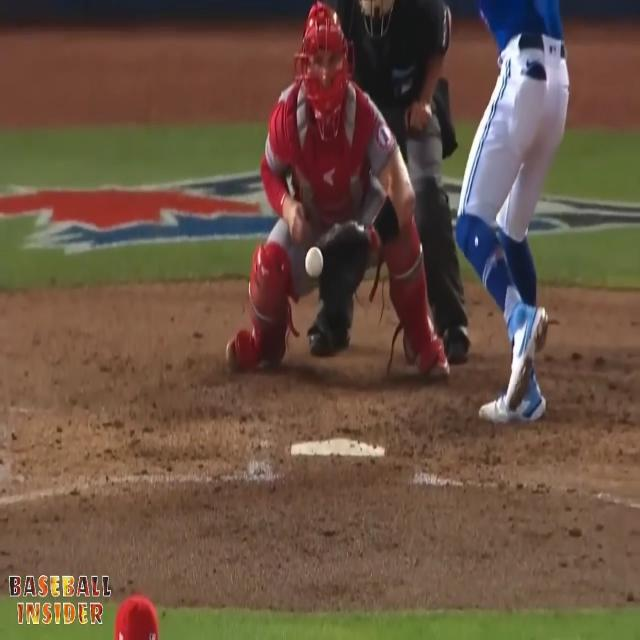baseball: (304, 246, 324, 278)
